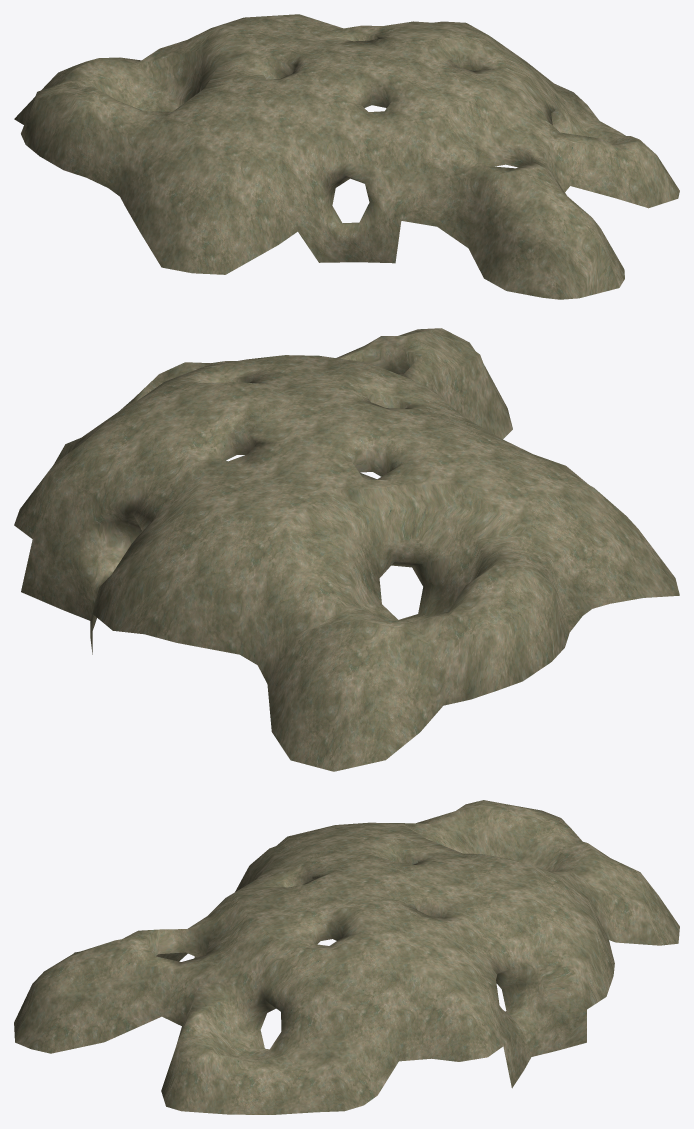
Rendered from EKH_JAIL_PS_JA_OUIB_ROOF_039039.fbx.
The picture shows the model from 3 angles, top to bottom: view 1: azimuth 30°, elevation 25°; view 2: azimuth 150°, elevation 25°; view 3: azimuth 270°, elevation 25°; orthographic projection. The views are drawn at different scales.
Visible parts, largest first — view 1: EKH_JAIL_PS_JA_OUIB_ROOF_039039; view 2: EKH_JAIL_PS_JA_OUIB_ROOF_039039; view 3: EKH_JAIL_PS_JA_OUIB_ROOF_039039.
Part boxes in pixels (x1,y1,x2,y2): EKH_JAIL_PS_JA_OUIB_ROOF_039039: (14, 14, 679, 299); EKH_JAIL_PS_JA_OUIB_ROOF_039039: (14, 328, 679, 771); EKH_JAIL_PS_JA_OUIB_ROOF_039039: (14, 800, 679, 1114).
Bounding box in the file's own units: 178591 × 46655 × 210675.
1 material, 1 textured.
